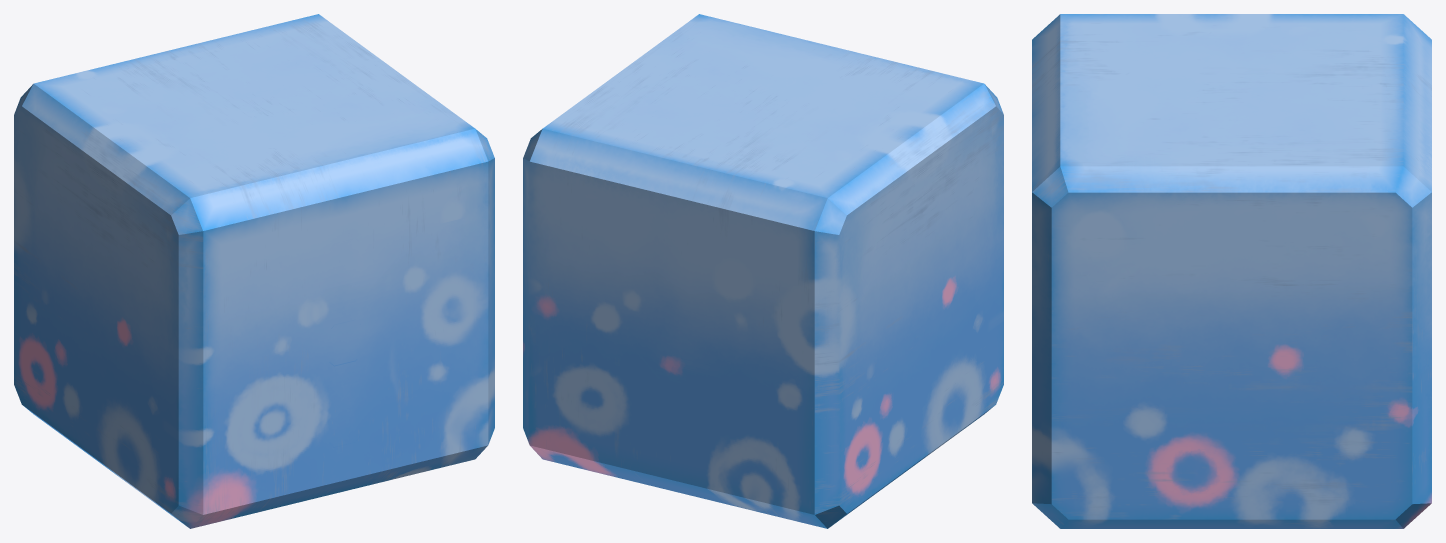
The model's file is worm2_totem_body.fbx.
The picture shows the model from 3 angles, left to right: view 1: azimuth 30°, elevation 25°; view 2: azimuth 150°, elevation 25°; view 3: azimuth 270°, elevation 25°; orthographic projection. The views are drawn at different scales.
Parts seen in each view (by area): view 1: Cube.006; view 2: Cube.006; view 3: Cube.006.
Boxes of the visible parts, x1,y1,x2,y2 form: Cube.006: (14,14,494,528); Cube.006: (523,14,1003,528); Cube.006: (1032,14,1431,528).
Bounding box in the file's own units: 100 × 100 × 100.
Materials: 1 (1 with a texture image).
